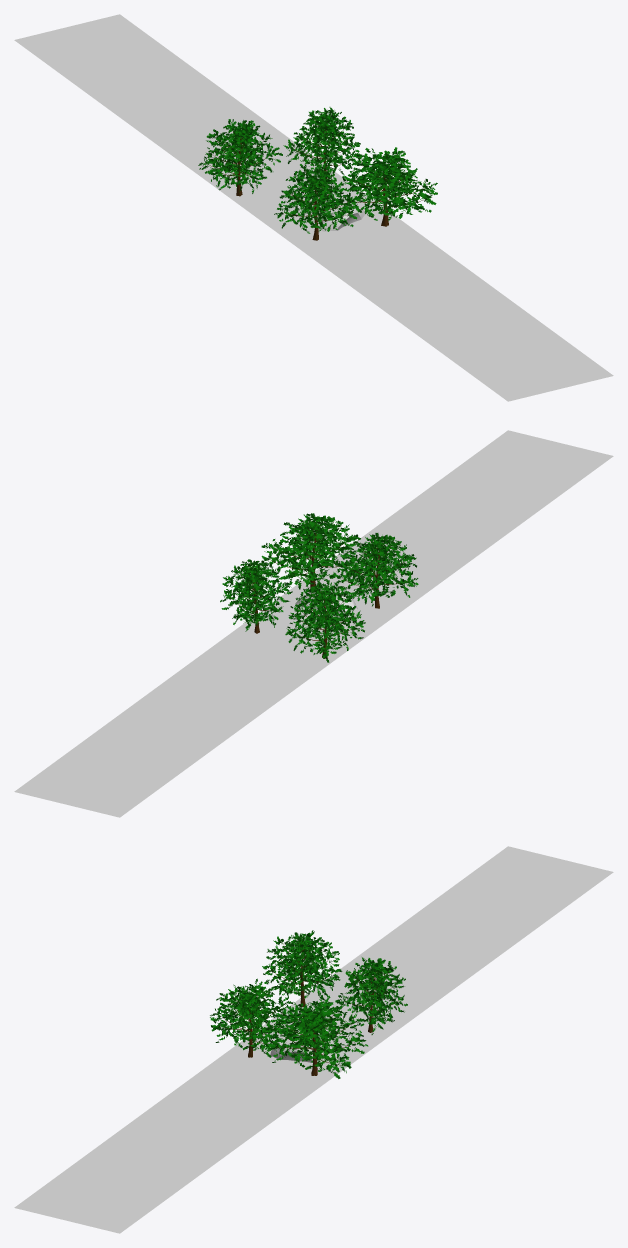
Rendered from Basic 7.fbx.
The picture shows the model from 3 angles, top to bottom: view 1: azimuth 30°, elevation 25°; view 2: azimuth 150°, elevation 25°; view 3: azimuth 330°, elevation 25°; orthographic projection.
Parts seen in each view (by area): view 1: Plane001, Foliage001, Foliage006, Foliage007, Foliage004; view 2: Plane001, Foliage001, Foliage006, Foliage007, Foliage004; view 3: Plane001, Foliage001, Foliage006, Foliage007, Foliage004.
Boxes of the visible parts, <box> form: Plane001: <box>14,14,613,401</box>; Foliage001: <box>336,147,437,226</box>; Foliage006: <box>198,119,282,196</box>; Foliage007: <box>274,163,358,240</box>; Foliage004: <box>283,107,361,181</box>; Plane001: <box>14,430,613,817</box>; Foliage001: <box>260,513,363,589</box>; Foliage006: <box>285,580,365,662</box>; Foliage007: <box>335,533,418,608</box>; Foliage004: <box>220,559,292,633</box>; Plane001: <box>14,846,613,1233</box>; Foliage001: <box>264,995,368,1078</box>; Foliage006: <box>262,930,342,1007</box>; Foliage007: <box>210,978,293,1057</box>; Foliage004: <box>335,957,407,1034</box>.
Size of the model in its own units: 1461 by 840 by 8000.
